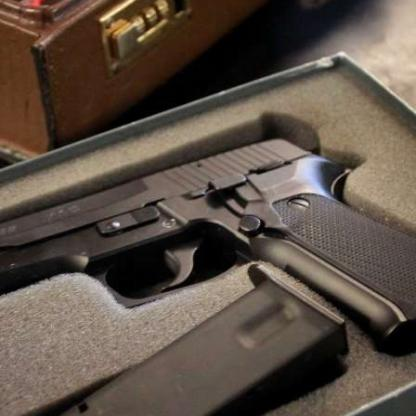gun: (0, 131, 415, 358)
